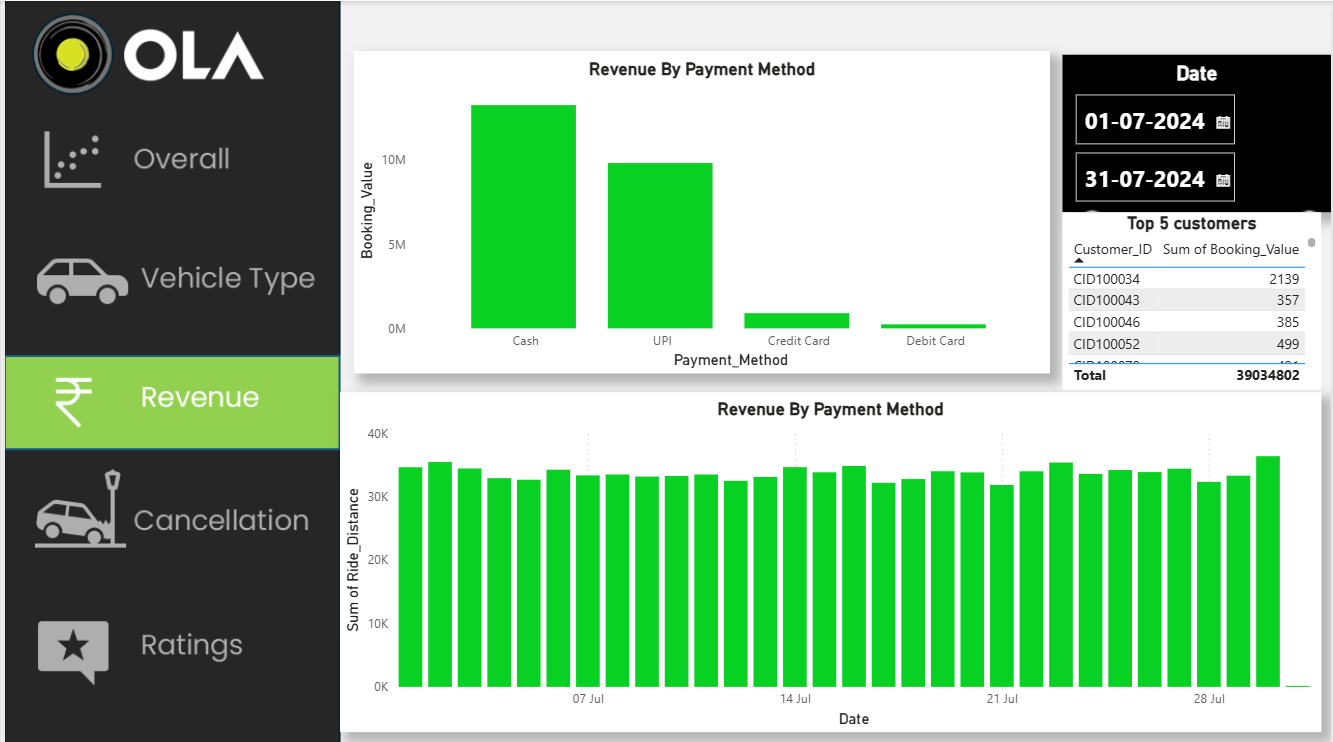

The page's visual inventory and layout, read from the dashboard file:
{"tool":"powerbi","page":{"name":"Revenue","canvas":[1280,720],"ordinal":2},"visuals":[{"type":"columnChart","title":"Revenue By Payment Method","fields":{"Category":["July.Payment_Method"],"Y":["Sum(July.Booking_Value)"]},"box":[336.2,48,672.4,311.5],"z":0},{"type":"columnChart","title":"Revenue By Payment Method","fields":{"Y":["Sum(July.Ride_Distance)"],"Category":["July.Date"]},"box":[323.8,377.4,946.8,328],"z":1},{"type":"slicer","title":"Date","fields":{"Values":["July.Date"]},"box":[1020.9,52.1,259.3,152.3],"z":2},{"type":"tableEx","title":"Top 5 customers","fields":{"Values":["July.Customer_ID","Sum(July.Booking_Value)"]},"box":[1020.9,204.5,249.7,171.5],"z":3}]}

Visuals, with their boxes on the page's 1280x720 design canvas (x1, y1, x2, y2). These are canvas units, not pixel positions in the 1333x742 screenshot, which may show the page scaled, cropped or inside an application window:
"Revenue By Payment Method" columnChart: (336, 48, 1009, 360)
"Revenue By Payment Method" columnChart: (324, 377, 1271, 705)
"Date" slicer: (1021, 52, 1280, 204)
"Top 5 customers" tableEx: (1021, 204, 1271, 376)
